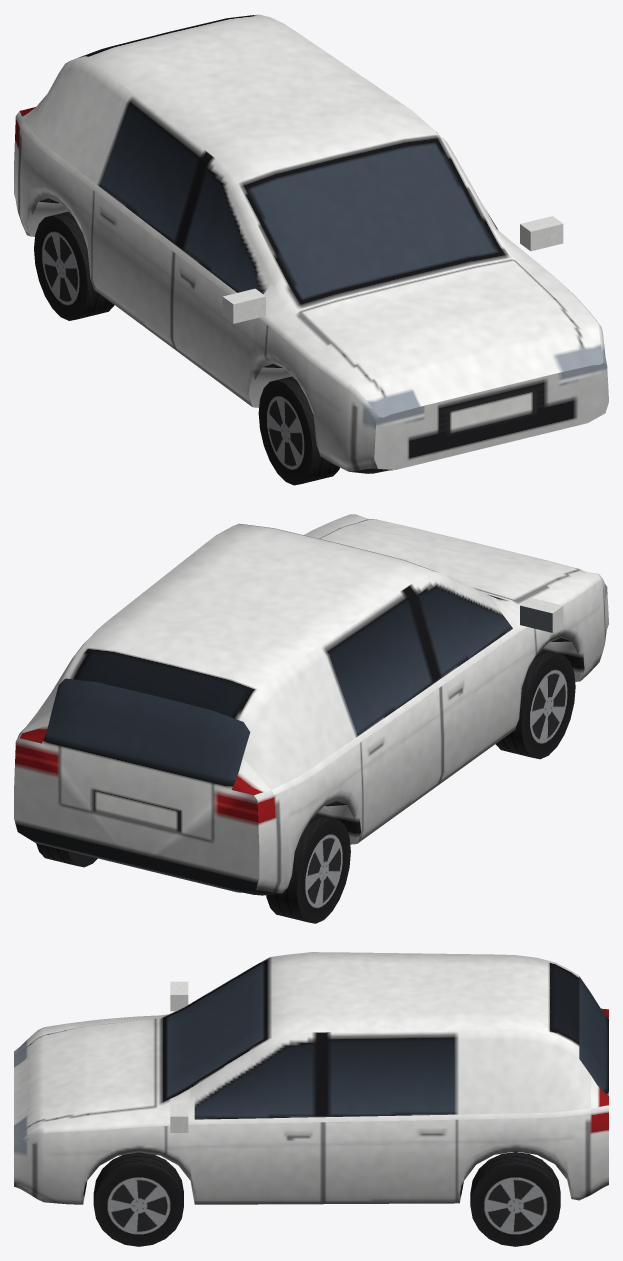
Rendered from SM_Morin_Auto_A_Col_v2_Bianco.fbx.
The picture shows the model from 3 angles, top to bottom: view 1: azimuth 30°, elevation 25°; view 2: azimuth 150°, elevation 25°; view 3: azimuth 270°, elevation 25°; orthographic projection. The views are drawn at different scales.
Visible parts, largest first — view 1: SM_Morin_Auto_A_Col_v2_Bianco; view 2: SM_Morin_Auto_A_Col_v2_Bianco; view 3: SM_Morin_Auto_A_Col_v2_Bianco.
Part boxes in pixels (x1,y1,x2,y2): SM_Morin_Auto_A_Col_v2_Bianco: [14, 14, 608, 485]; SM_Morin_Auto_A_Col_v2_Bianco: [14, 514, 608, 923]; SM_Morin_Auto_A_Col_v2_Bianco: [14, 952, 608, 1246].
Size of what is drawn, in the model's own units: 212 by 395 by 150.
Materials: 1 (1 with a texture image).
